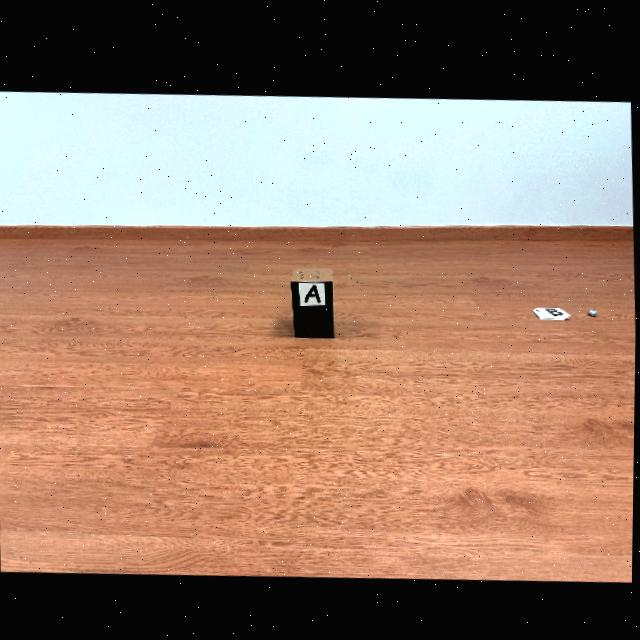A: (305, 282, 320, 297)
